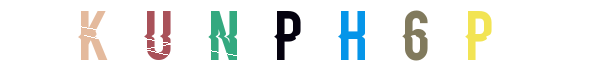6: (312, 0, 392, 80)
H: (259, 0, 339, 80)
K: (117, 0, 197, 80)
N: (245, 0, 325, 80)
P: (251, 0, 331, 80), (436, 0, 516, 80)
U: (183, 0, 263, 80)
